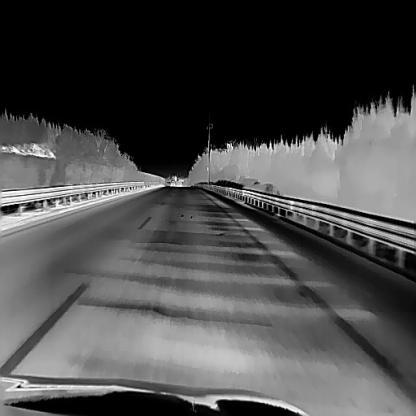car: (169, 178, 176, 186)
